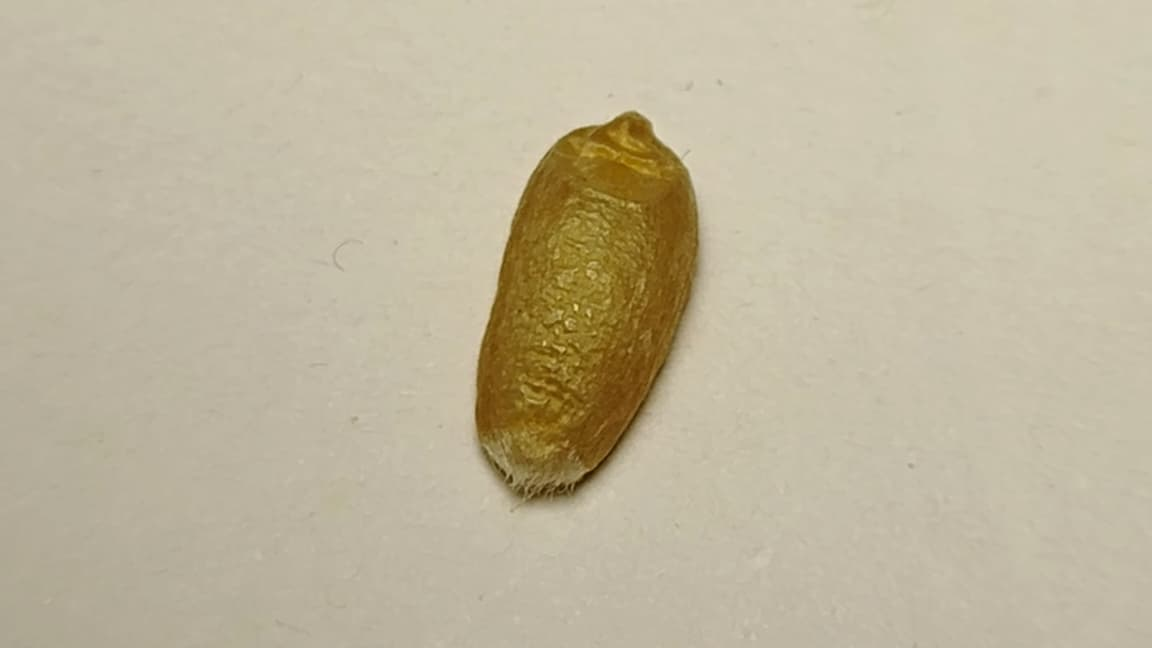healthy: (475, 110, 698, 479)
